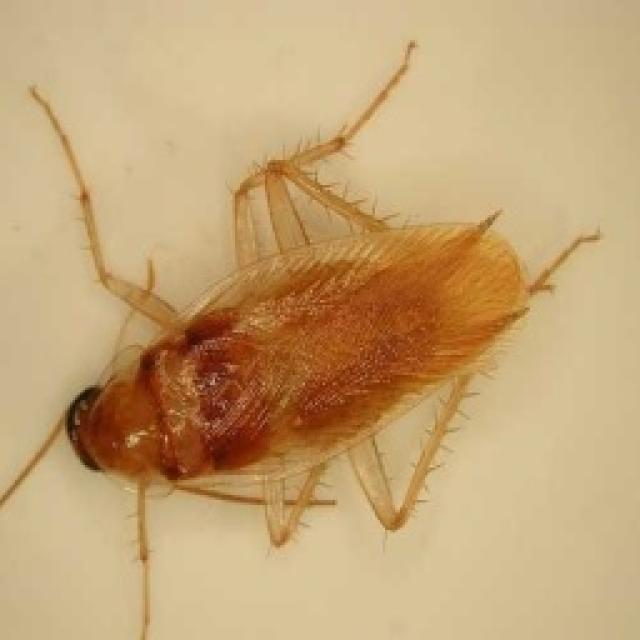cockroach: (4, 97, 576, 640)
